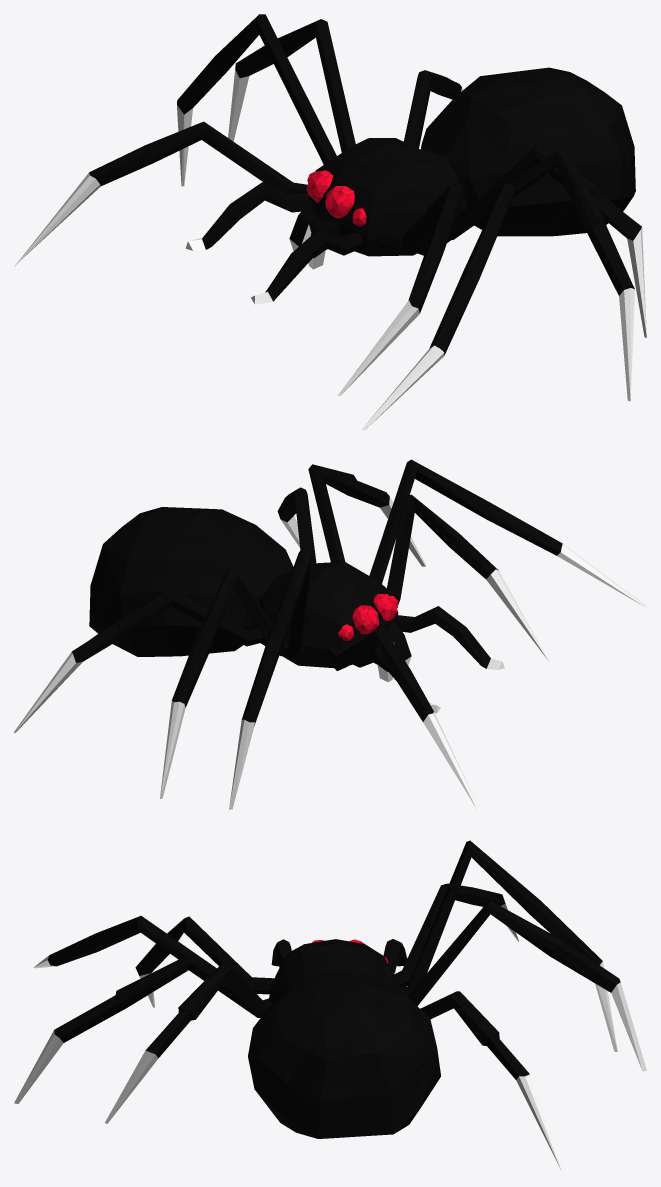
Rendered from spiderWalking5.obj.
3 views of the same model, one above another, from view 1: azimuth 30°, elevation 25°; view 2: azimuth 150°, elevation 25°; view 3: azimuth 270°, elevation 25° (orthographic). The views are drawn at different scales.
Parts seen in each view (by area): view 1: Cube.001_Cube.002; view 2: Cube.001_Cube.002; view 3: Cube.001_Cube.002.
Boxes of the visible parts, box(x1,y1,x2,y2) form: Cube.001_Cube.002: box(14, 14, 646, 430); Cube.001_Cube.002: box(14, 459, 646, 811); Cube.001_Cube.002: box(14, 840, 646, 1172).
Bounding box in the file's own units: 29.07 × 12.65 × 34.39.
